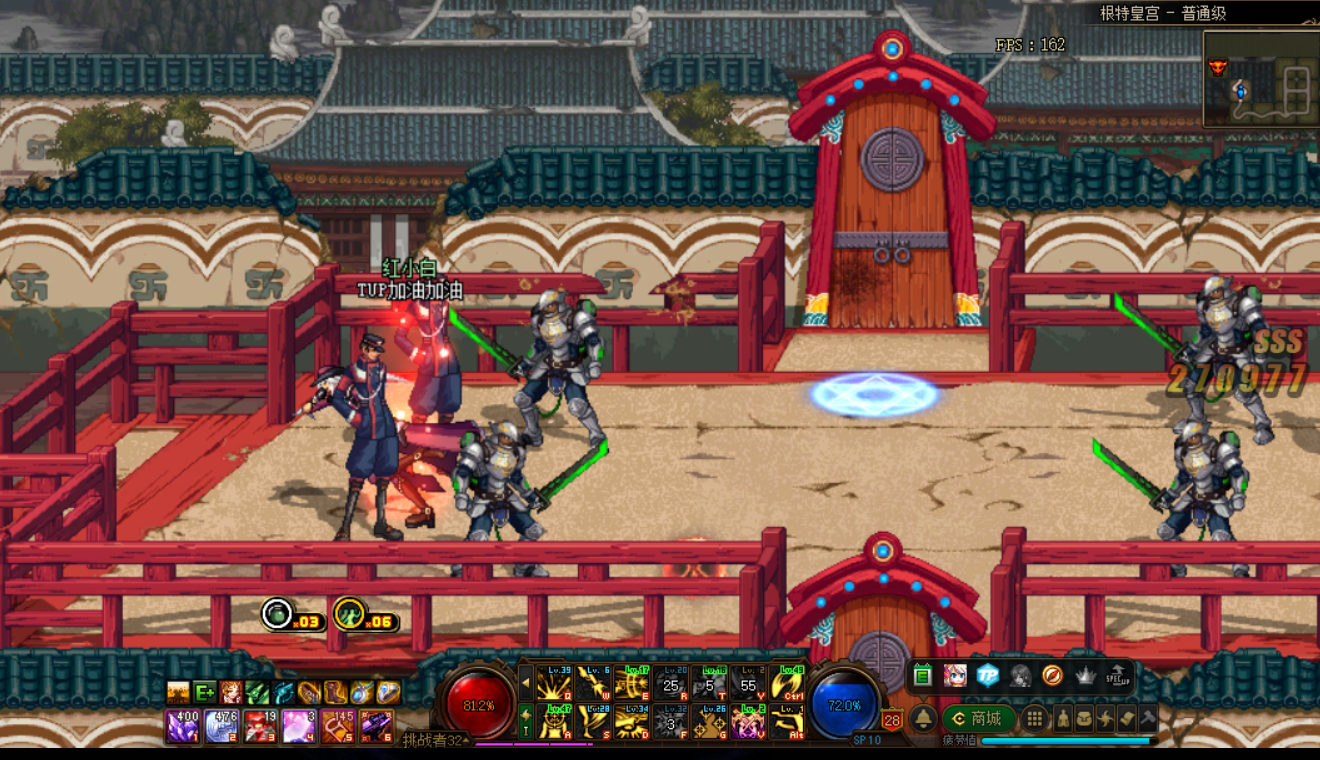monster: (1117, 269, 1284, 450), (437, 415, 595, 571), (497, 276, 617, 450), (330, 327, 420, 539), (381, 234, 476, 434), (1121, 430, 1255, 571)
